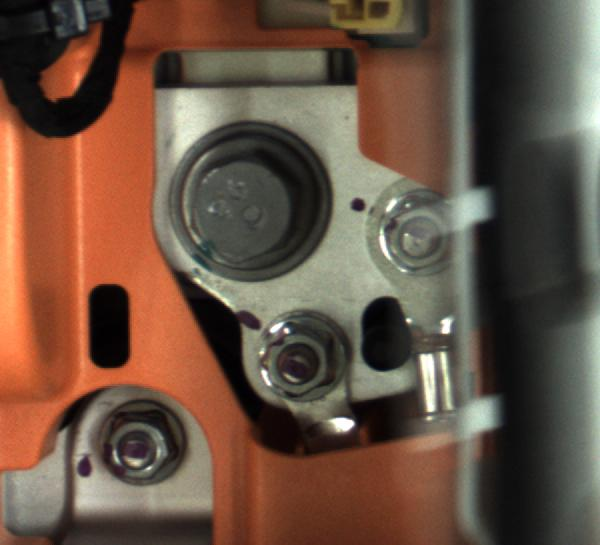nut_b: (157, 119, 320, 266)
